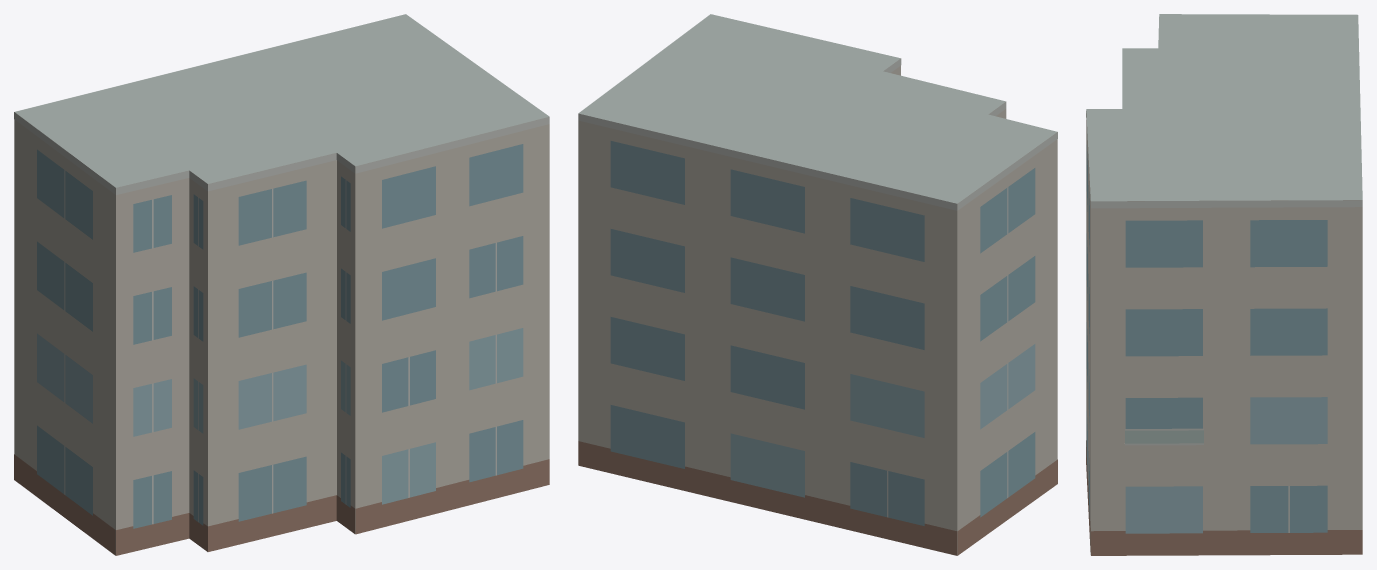
Rendered from survey-upis-32520142.glb.
3 renders of one model, left to right at view 1: azimuth 30°, elevation 25°; view 2: azimuth 150°, elevation 25°; view 3: azimuth 270°, elevation 25°, orthographic. The views are drawn at different scales.
Parts seen in each view (by area): view 1: survey-upis-32520142.tmp; view 2: survey-upis-32520142.tmp; view 3: survey-upis-32520142.tmp.
Boxes of the visible parts, box(x1,y1,x2,y2) form: survey-upis-32520142.tmp: box(14, 14, 549, 555); survey-upis-32520142.tmp: box(578, 14, 1057, 555); survey-upis-32520142.tmp: box(1086, 14, 1362, 555).
Size of the model in its own units: 13.85 by 12.2 by 8.63.
